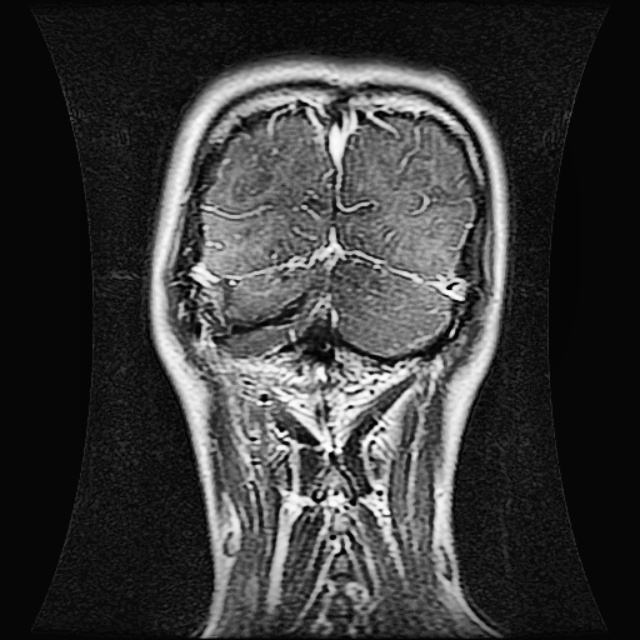Meningioma: (228, 129, 292, 204)
